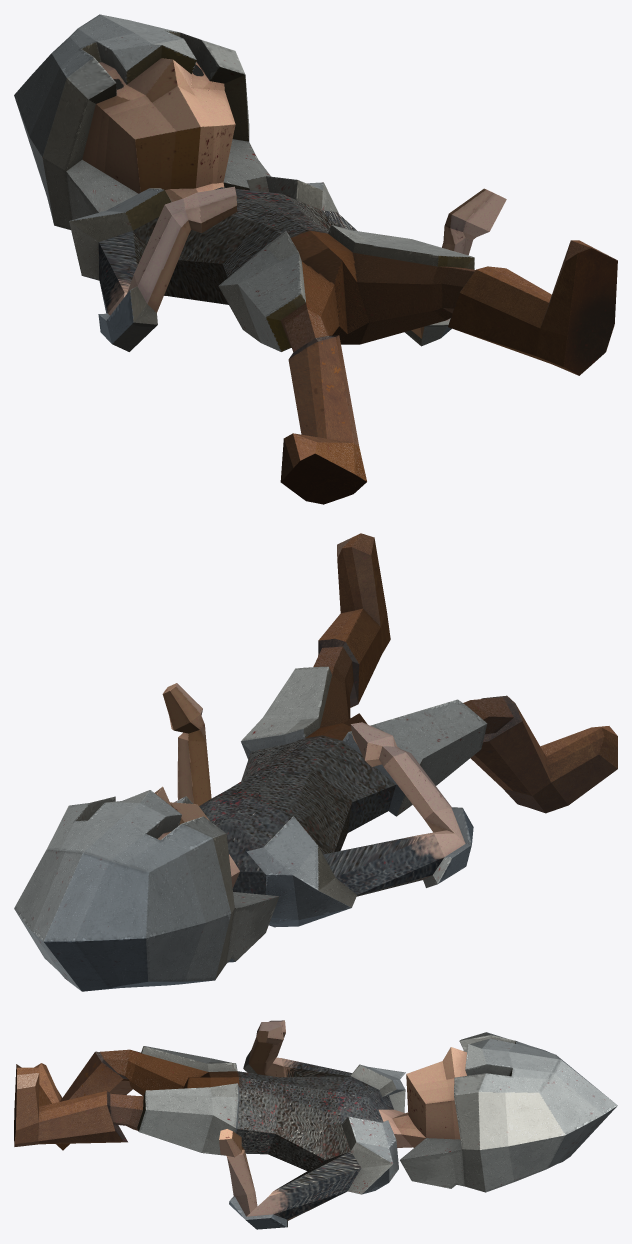
Rendered from Walk_Soldier_21.obj.
3 views of the same model, one above another, from view 1: azimuth 30°, elevation 25°; view 2: azimuth 150°, elevation 25°; view 3: azimuth 270°, elevation 25° (orthographic). The views are drawn at different scales.
Parts seen in each view (by area): view 1: Soldado_LowPolySTD; view 2: Soldado_LowPolySTD; view 3: Soldado_LowPolySTD.
Part boxes in pixels (box(x1,y1,x2,y2)): Soldado_LowPolySTD: box(14, 14, 617, 504); Soldado_LowPolySTD: box(14, 533, 617, 991); Soldado_LowPolySTD: box(14, 1020, 617, 1229).
Bounding box in the file's own units: 1.41 × 0.8525 × 2.94.
